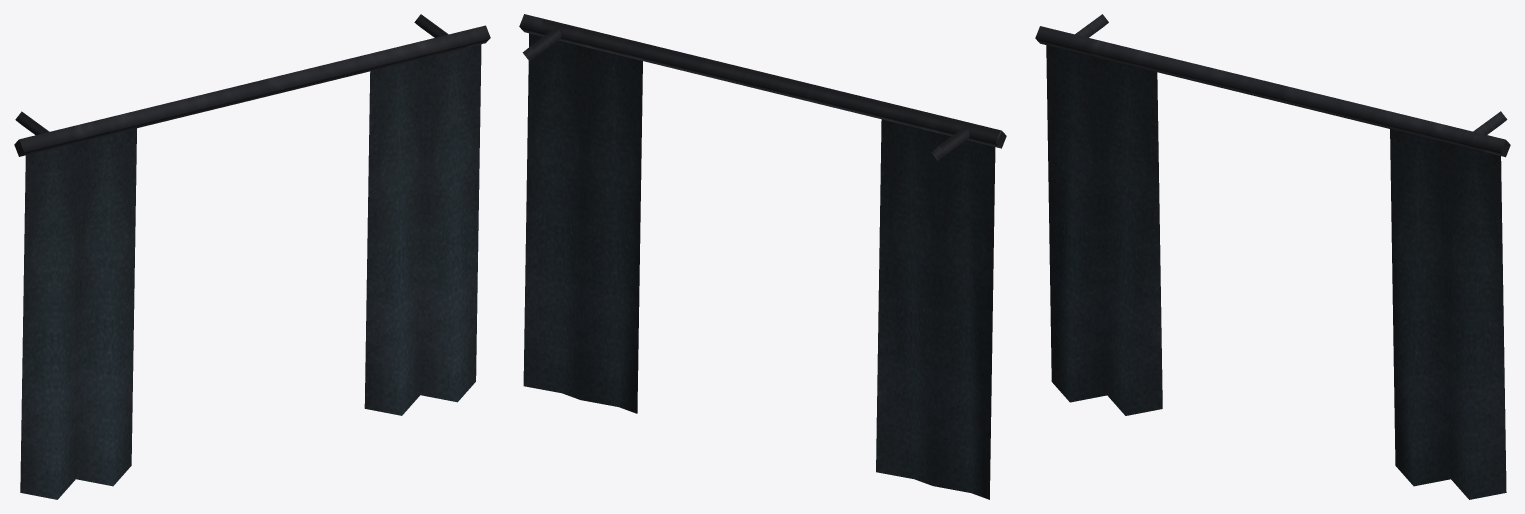
File: Curtains_G.fbx
The picture shows the model from 3 angles, left to right: view 1: azimuth 30°, elevation 25°; view 2: azimuth 150°, elevation 25°; view 3: azimuth 330°, elevation 25°; orthographic projection. The views are drawn at different scales.
Parts seen in each view (by area): view 1: Curtains_G; view 2: Curtains_G; view 3: Curtains_G.
Boxes of the visible parts, x1,y1,x2,y2 form: Curtains_G: (14, 14, 490, 499); Curtains_G: (519, 14, 1006, 499); Curtains_G: (1035, 14, 1510, 499).
Bounding box in the file's own units: 0.3604 × 0.2699 × 0.0466.
